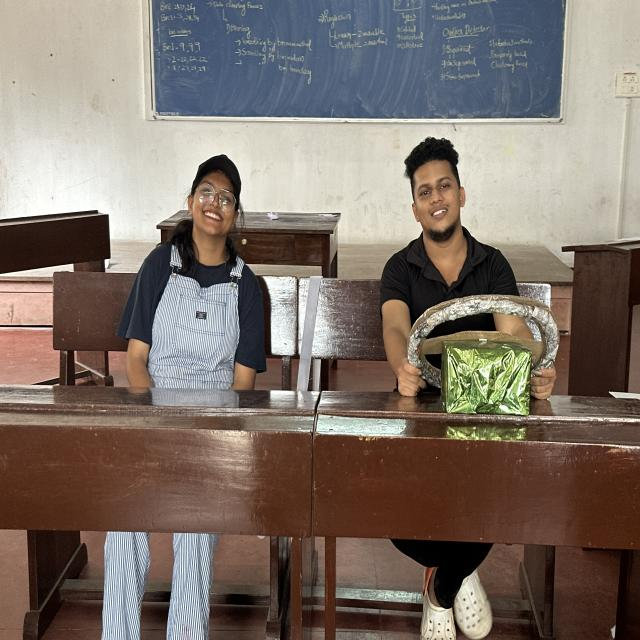no-seatbelt: (112, 241, 291, 387), (371, 232, 520, 393)
